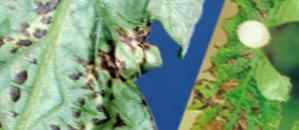Tomato leaf bacterial spot: (0, 0, 215, 130), (173, 21, 299, 130)
